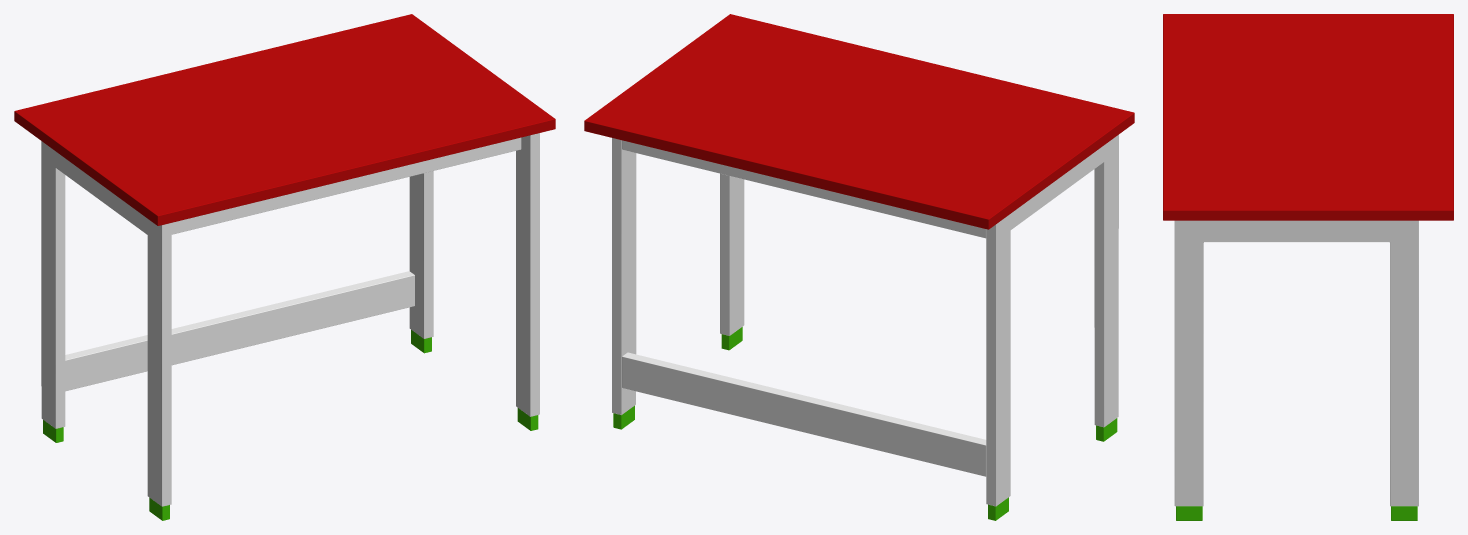
The model's file is Desk01b.fbx.
The picture shows the model from 3 angles, left to right: view 1: azimuth 30°, elevation 25°; view 2: azimuth 150°, elevation 25°; view 3: azimuth 270°, elevation 25°; orthographic projection.
Visible parts, largest first — view 1: Desk01b; view 2: Desk01b; view 3: Desk01b.
Part boxes in pixels (x1,y1,x2,y2): Desk01b: (14,14,555,520); Desk01b: (584,14,1134,520); Desk01b: (1163,14,1453,520).
Size of the model in its own units: 100 by 62.5 by 75.
